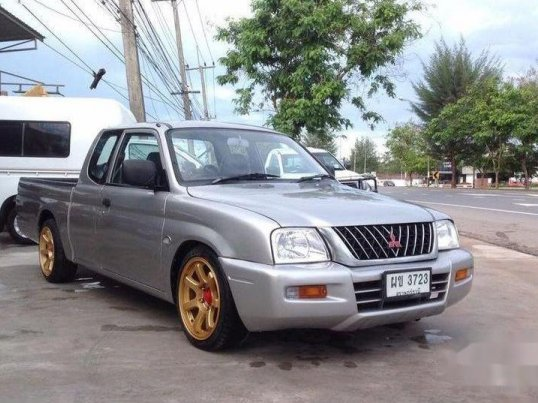pickup: (9, 119, 479, 352)
